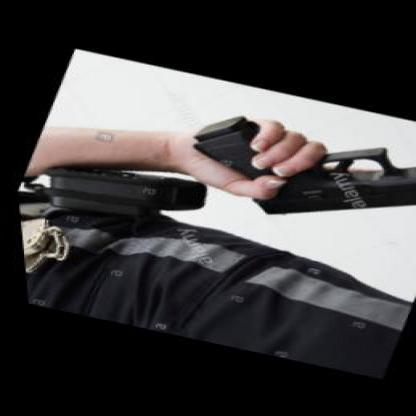pistol: (156, 98, 413, 251)
